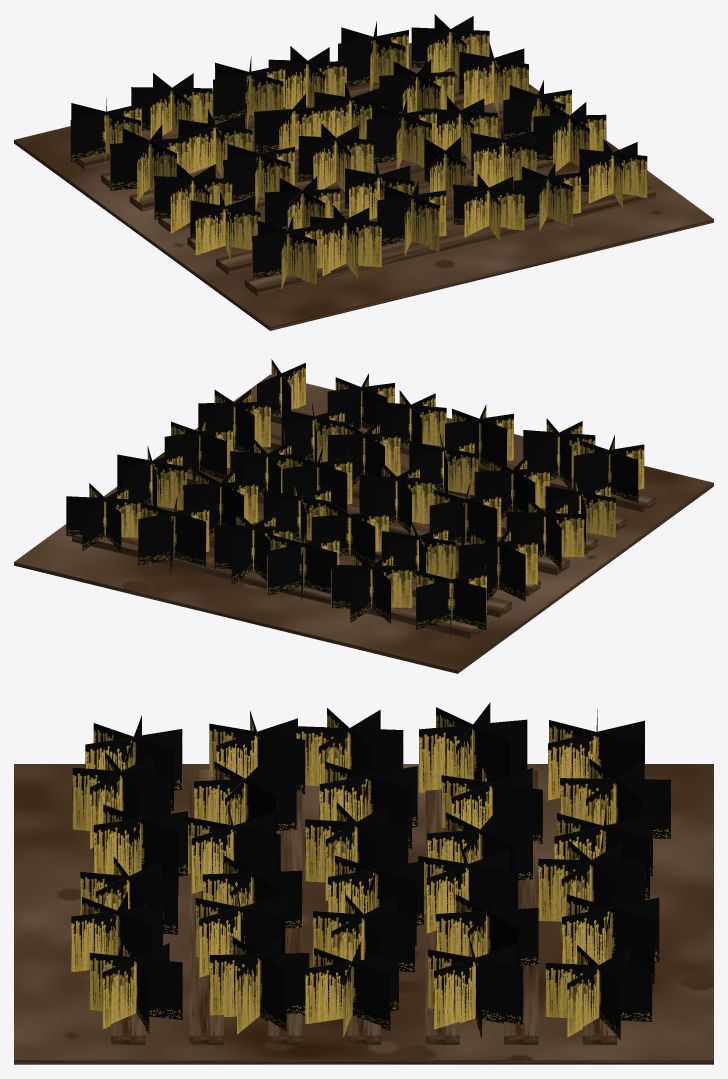
Rendered from nodo-farm-e3-B0ra4hGB.glb.
3 views of the same model, one above another, from view 1: azimuth 30°, elevation 25°; view 2: azimuth 150°, elevation 25°; view 3: azimuth 270°, elevation 25° (orthographic). The views are drawn at different scales.
Parts seen in each view (by area): view 1: cultivo, suelo_y_surcos; view 2: cultivo, suelo_y_surcos; view 3: cultivo, suelo_y_surcos.
Boxes of the visible parts, left/top/right/bottom form: cultivo: left=70, top=14, right=647, bottom=289; suelo_y_surcos: left=14, top=43, right=713, bottom=330; cultivo: left=66, top=359, right=644, bottom=637; suelo_y_surcos: left=14, top=374, right=713, bottom=673; cultivo: left=71, top=702, right=670, bottom=1039; suelo_y_surcos: left=14, top=764, right=713, bottom=1064.
Bounding box in the file's own units: 47.2 × 5.67 × 47.2.
2 materials, 2 textured.
